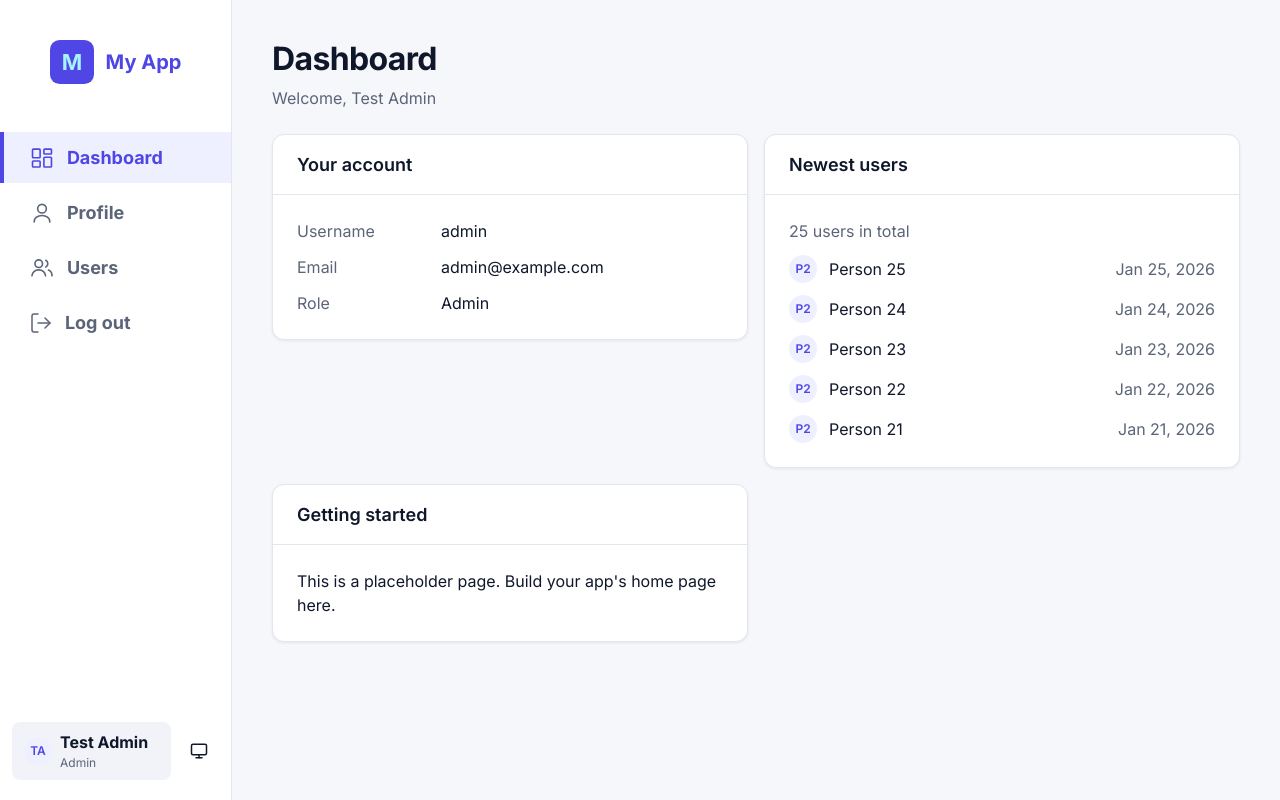
Scenario: logout › logging out from the sidebar returns to the login page
Expected: the heading "Dashboard" is shown, [272,40,437,78]
Click the button "Log out" at [116, 322], box [0,297,231,348]
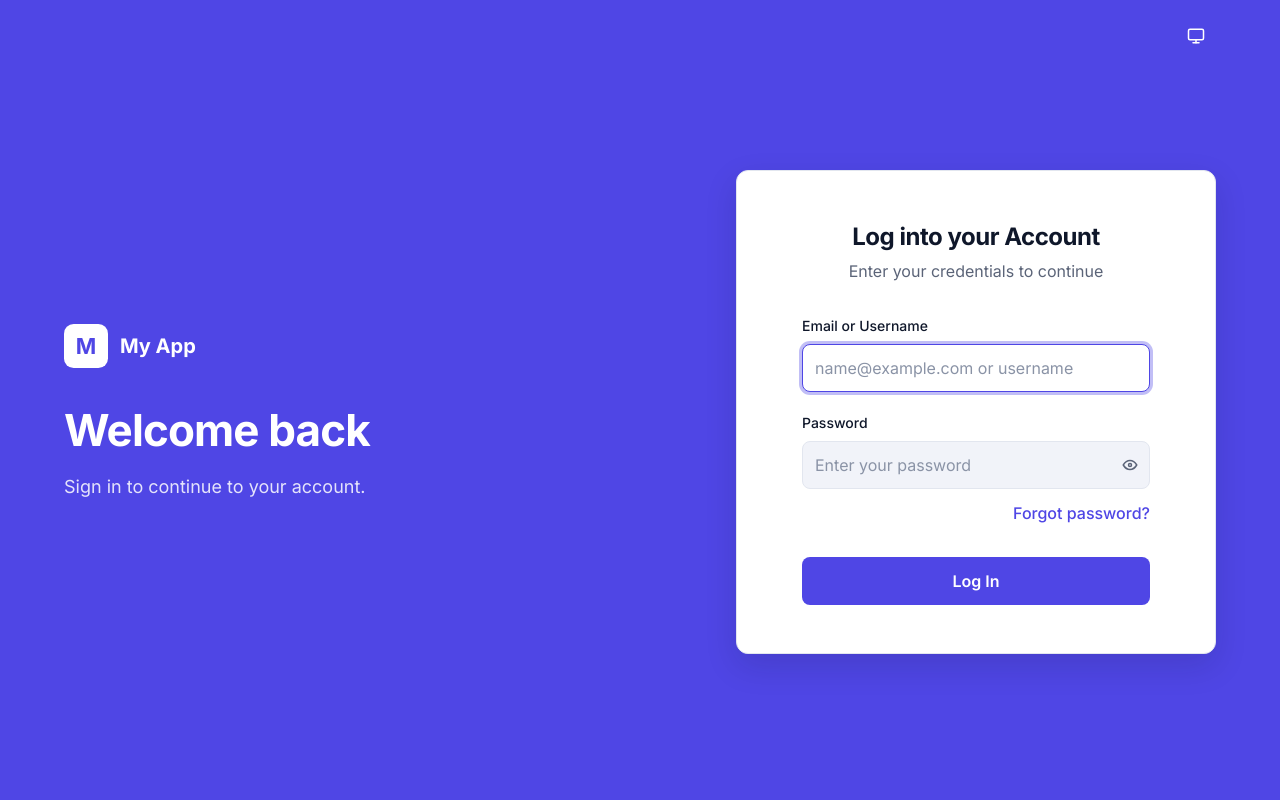
Expected: the heading "Log into your Account" is shown, [852,222,1100,251]
